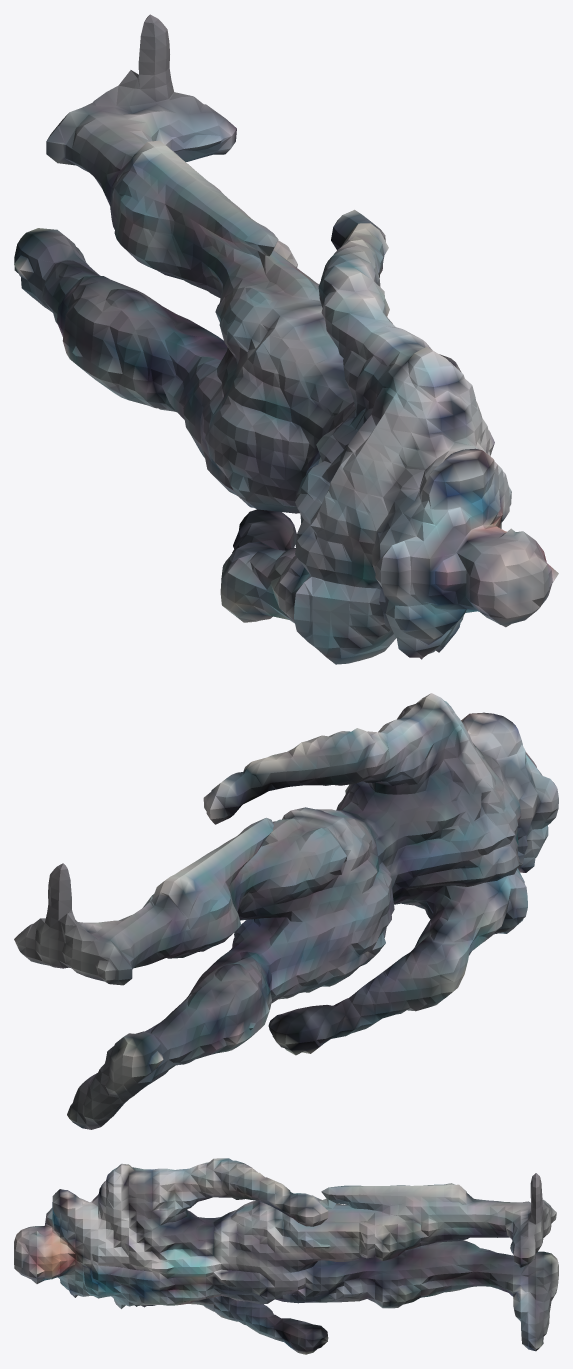
Rendered from future_merchant_m_0.glb.
3 renders of one model, top to bottom at view 1: azimuth 30°, elevation 25°; view 2: azimuth 150°, elevation 25°; view 3: azimuth 270°, elevation 25°, orthographic. The views are drawn at different scales.
Parts seen in each view (by area): view 1: world; view 2: world; view 3: world.
Part boxes in pixels (x1,y1,x2,y2): world: (14, 14, 558, 664); world: (14, 693, 558, 1129); world: (14, 1158, 558, 1354).
Size of the model in its own units: 0.3396 by 0.4039 by 0.9723.
